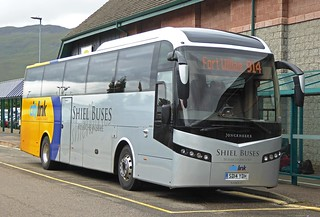bus: (18, 25, 282, 191)
